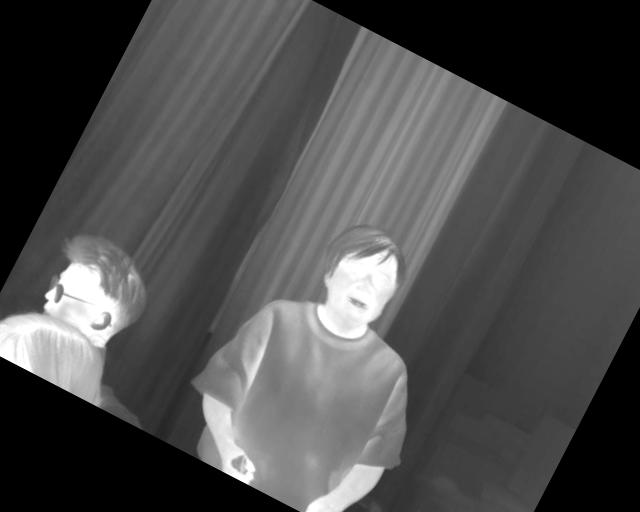face: (287, 142, 377, 254), (190, 158, 268, 252)
